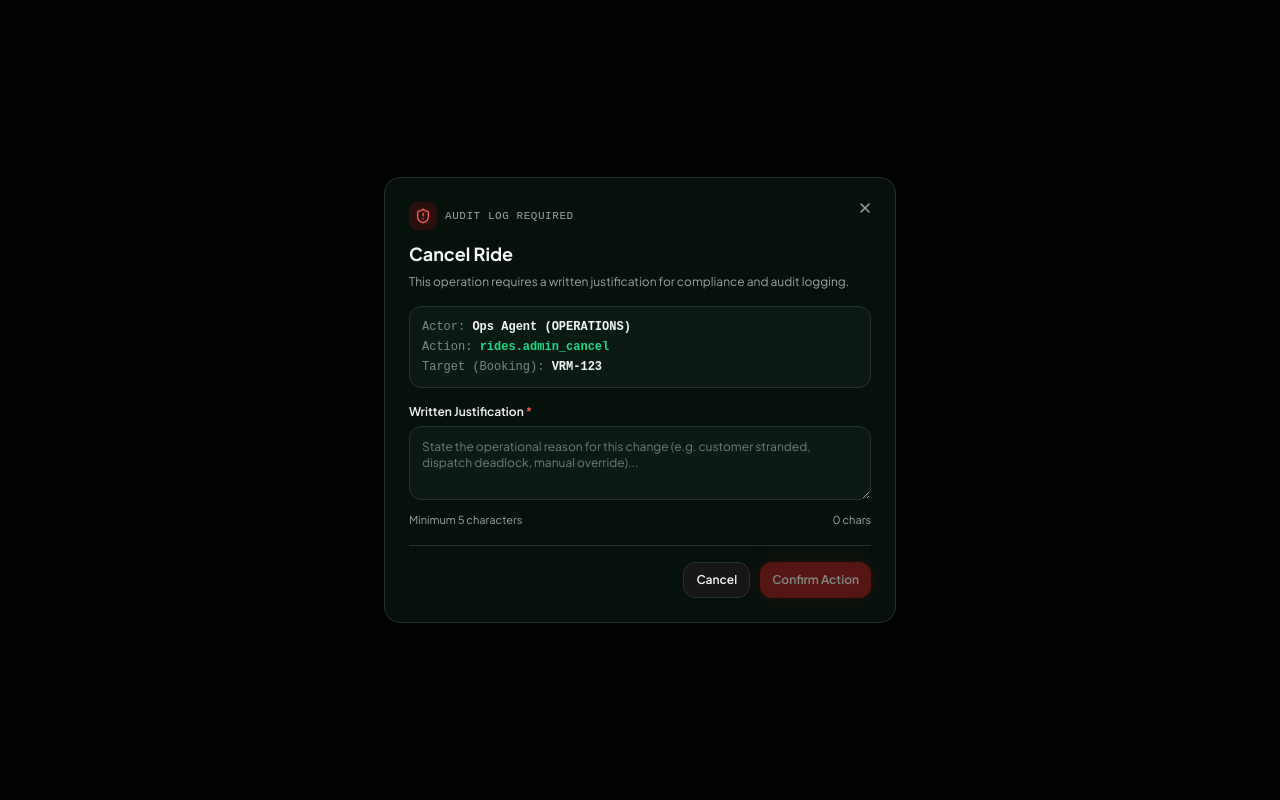
Test: ConfirmWithReasonDialog Component › validates minimum character length requirement for written reason
Step 1. Replace the text in the text box with placeholder "State the operational reason" with "Bad" → [640, 463], box [409, 426, 871, 500]
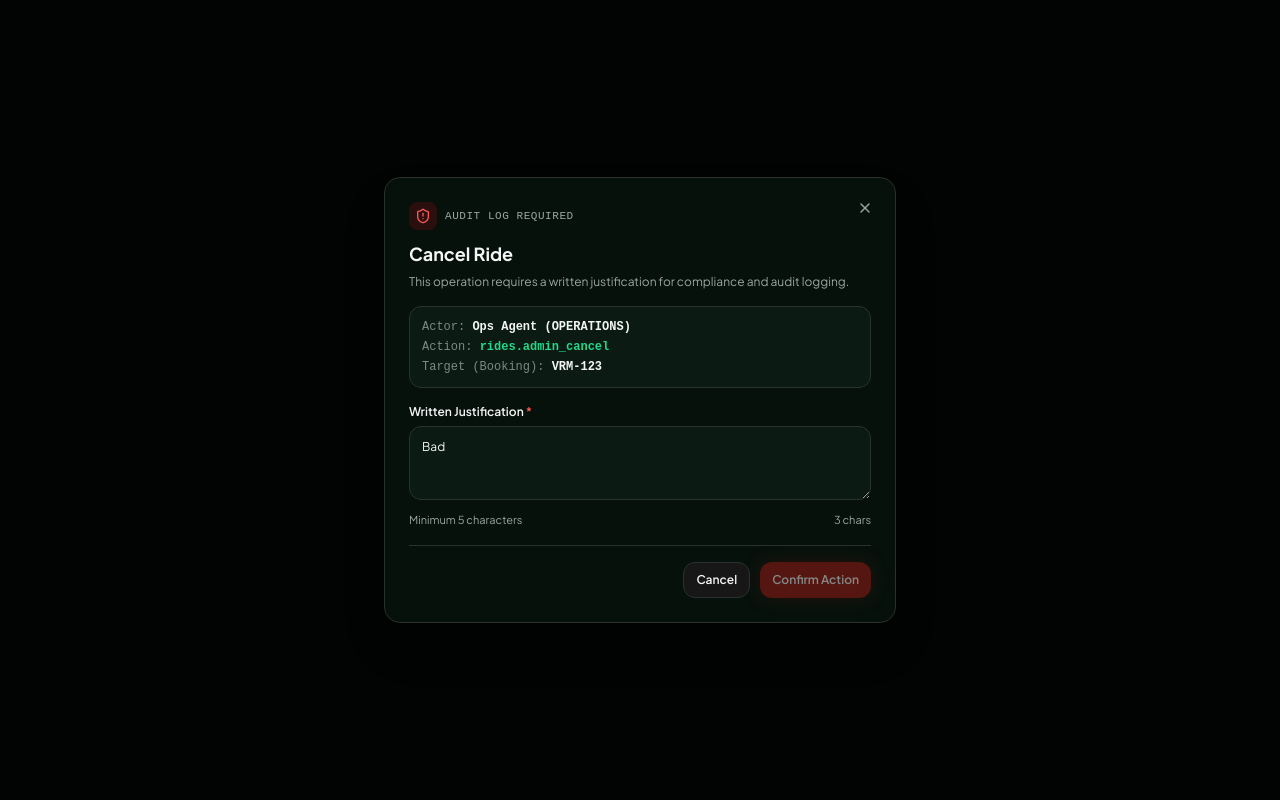
Expected: the button "Confirm Action" is disabled, [760, 562, 871, 598]
Step 2. Replace the text in the text box with placeholder "State the operational reason" with "Deadlock between assigned captains" → [640, 463], box [409, 426, 871, 500]
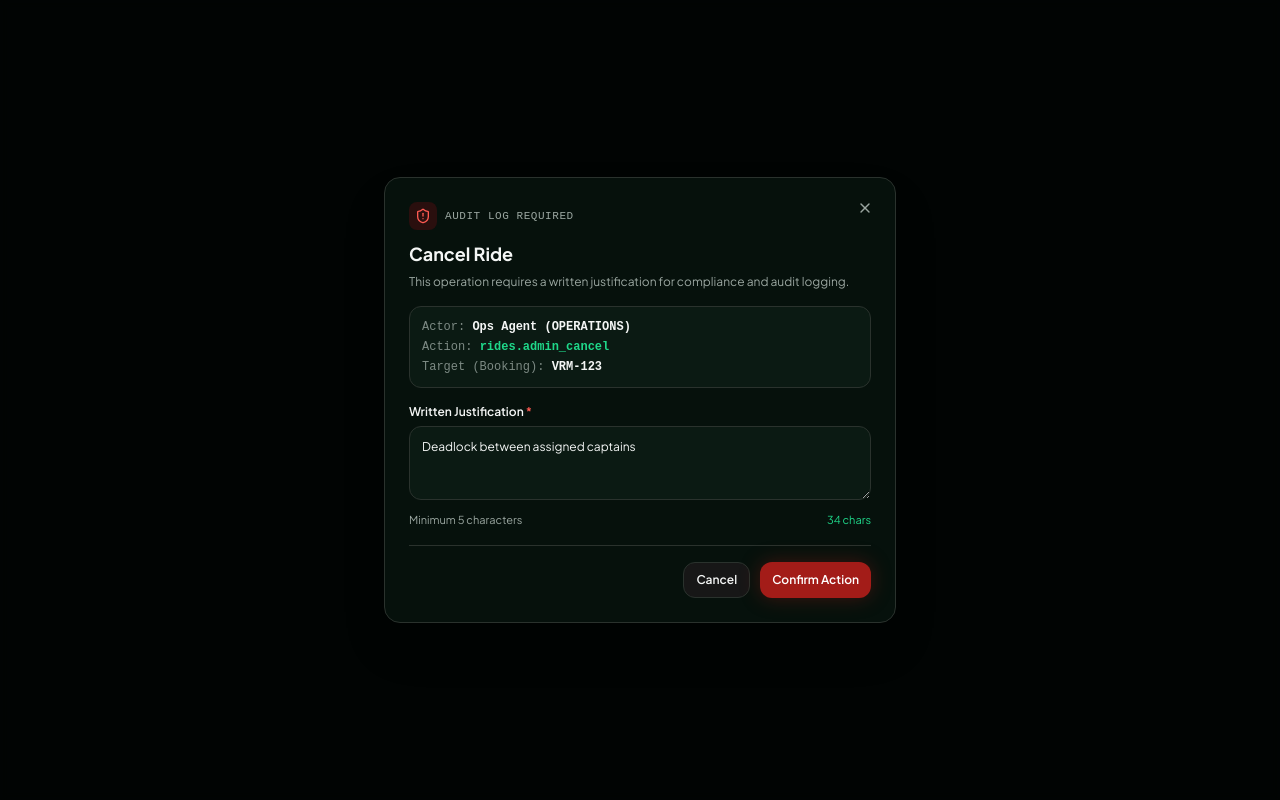
Result: the button "Confirm Action" is enabled at [760, 562, 871, 598]
